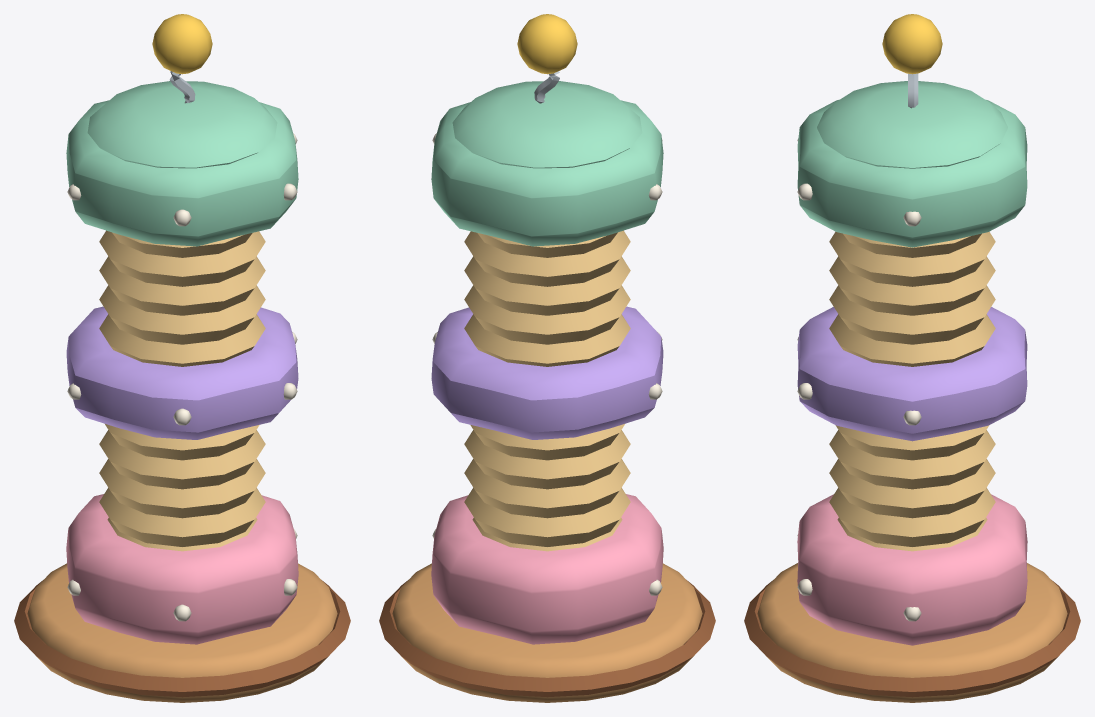
File: prop_scratch_post.glb
The picture shows the model from 3 angles, left to right: view 1: azimuth 30°, elevation 25°; view 2: azimuth 150°, elevation 25°; view 3: azimuth 270°, elevation 25°; orthographic projection.
Visible parts, largest first — view 1: prop_scratch_post; view 2: prop_scratch_post; view 3: prop_scratch_post.
Boxes of the visible parts, x1,y1,x2,y2 form: prop_scratch_post: (14, 14, 350, 702); prop_scratch_post: (379, 14, 715, 702); prop_scratch_post: (744, 14, 1080, 702).
Bounding box in the file's own units: 0.95 × 1.95 × 0.95.
